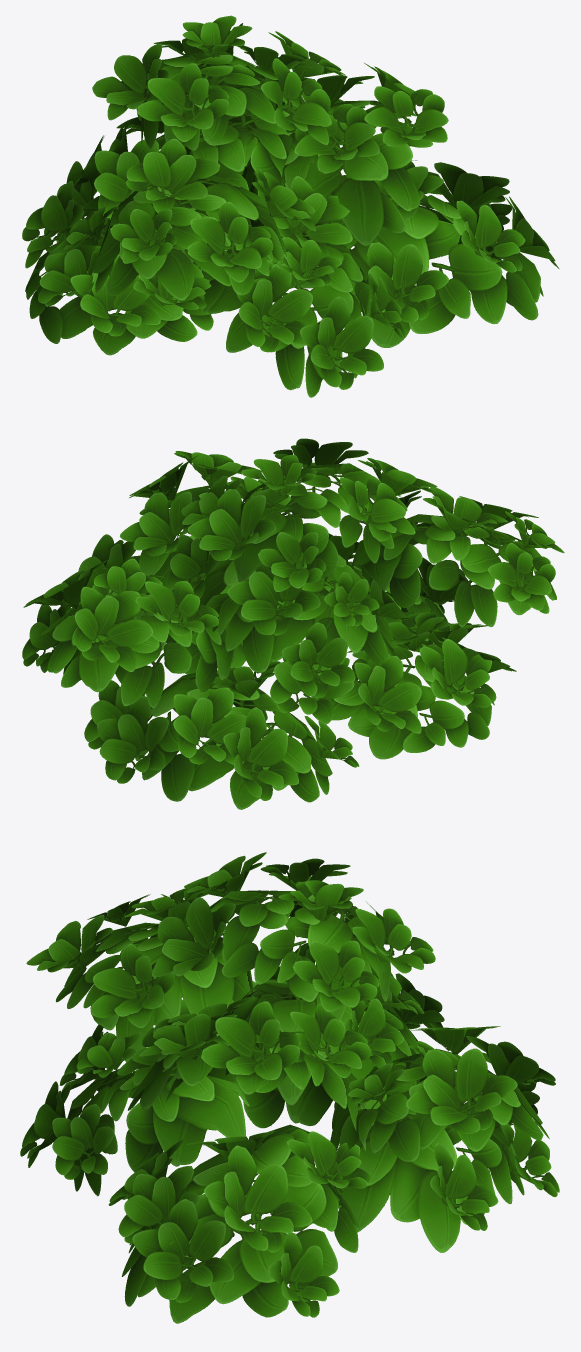
Rendered from SE_Bush_07.fbx.
The picture shows the model from 3 angles, top to bottom: view 1: azimuth 30°, elevation 25°; view 2: azimuth 150°, elevation 25°; view 3: azimuth 270°, elevation 25°; orthographic projection. The views are drawn at different scales.
Parts seen in each view (by area): view 1: SE_Bush_07; view 2: SE_Bush_07; view 3: SE_Bush_07.
Boxes of the visible parts, x1,y1,x2,y2 form: SE_Bush_07: [22, 15, 559, 397]; SE_Bush_07: [22, 438, 564, 809]; SE_Bush_07: [20, 852, 559, 1323].
Bounding box in the file's own units: 7.73 × 4.26 × 6.82.
